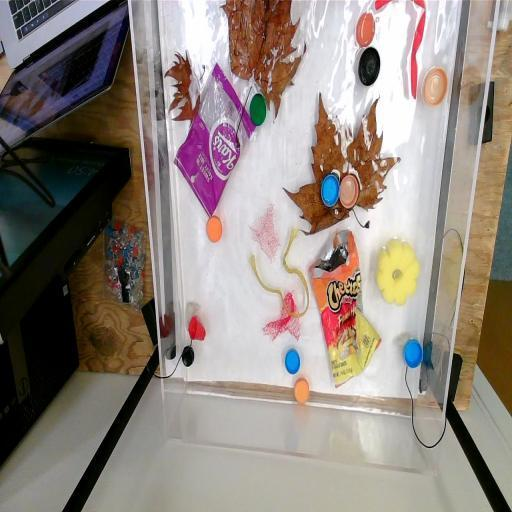Bottle Cap: (422, 66, 450, 106), (357, 45, 382, 87), (338, 170, 361, 210), (319, 170, 339, 210), (354, 10, 376, 46), (402, 338, 424, 368), (292, 377, 312, 410), (249, 92, 267, 128), (206, 214, 224, 247), (283, 346, 302, 376), (180, 346, 194, 368)
Cone Cap: (186, 310, 208, 346)
Leaf: (281, 90, 405, 232), (222, 0, 310, 124), (162, 47, 206, 127)
Netting: (260, 292, 304, 345), (248, 198, 281, 264)
Plastic Bag: (308, 230, 382, 390), (176, 61, 250, 215)
Plastic Strand: (374, 0, 427, 101), (250, 233, 310, 319)
Sponge: (376, 236, 421, 310)
